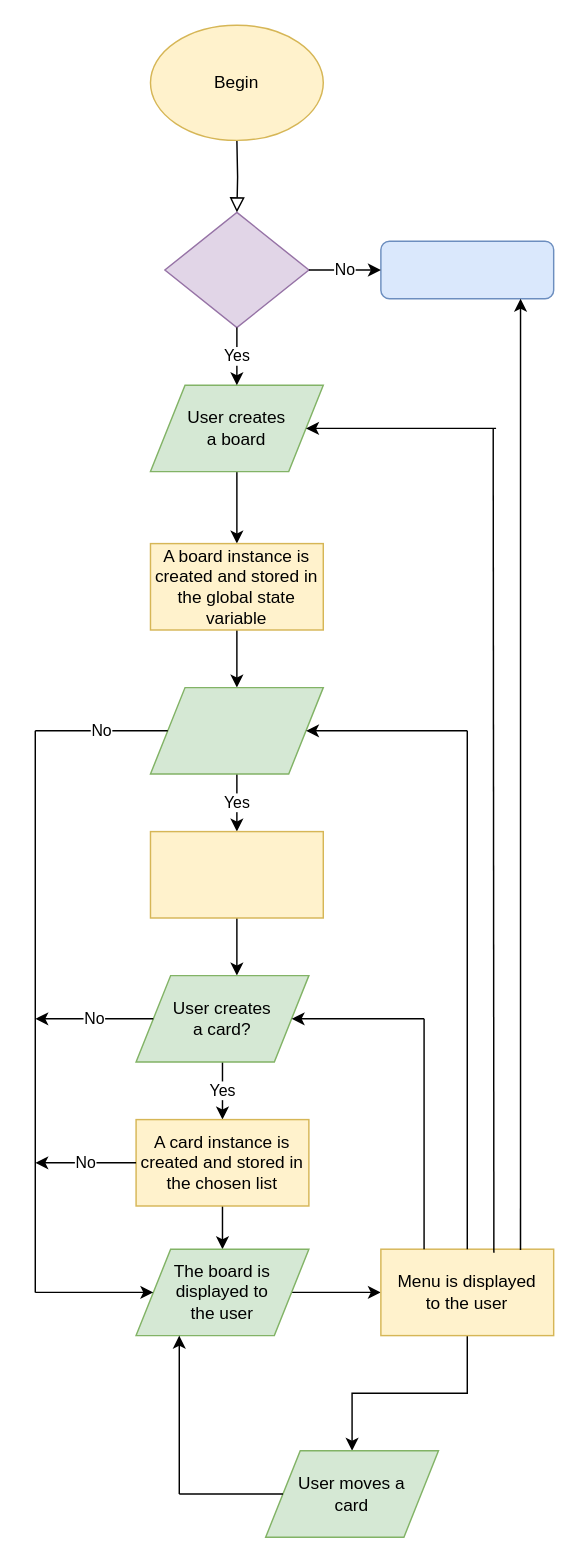
Some shapes in this 579 by 1562 pixel diagram are drawn without their labels. The shapes that lost their labels are listed below. From the top down, each one's centre as x and y in pixels, then its label:
At (x=236, y=269): "Sign Up?".
At (x=466, y=269): "Exit".
At (x=236, y=730): "User creates a List?".
At (x=236, y=874): "A list instance is created and stored in the current board".
